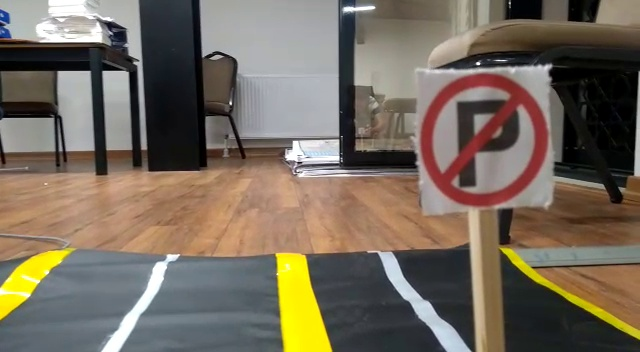park_yapilmaz: (410, 67, 553, 206)
